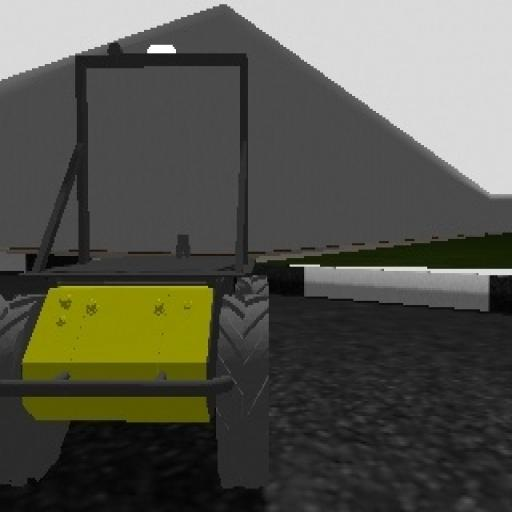huskya200: (0, 24, 284, 504)
